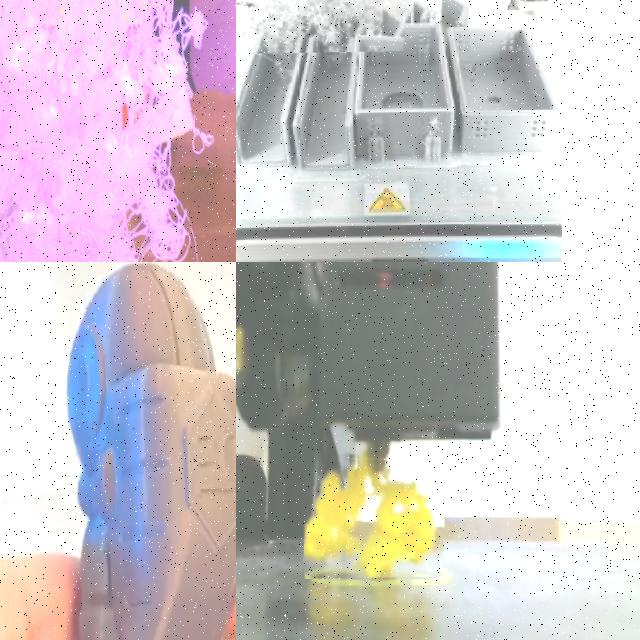spaghetti: (302, 454, 448, 578), (236, 0, 409, 53)
